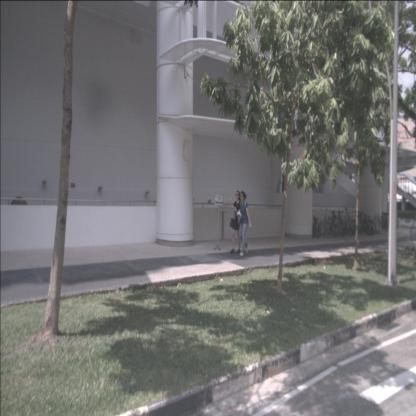human-pedestrian-adult: (236, 191, 252, 257), (229, 190, 243, 254)
